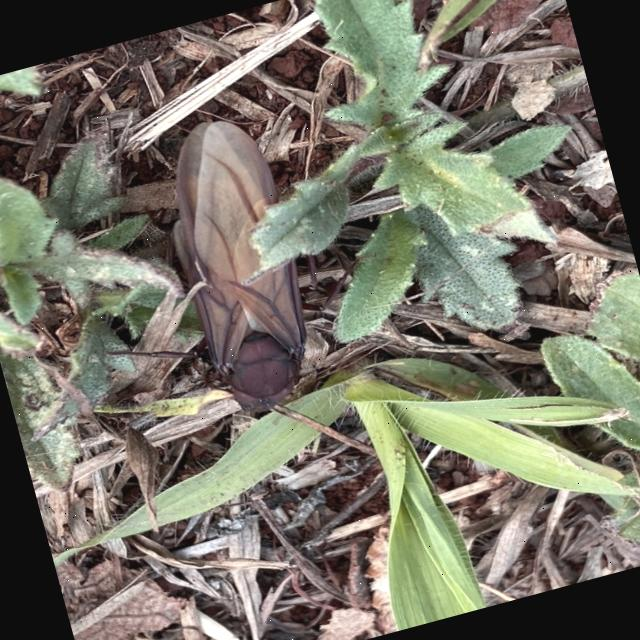Alive-Female-Alate: (53, 86, 410, 448)
